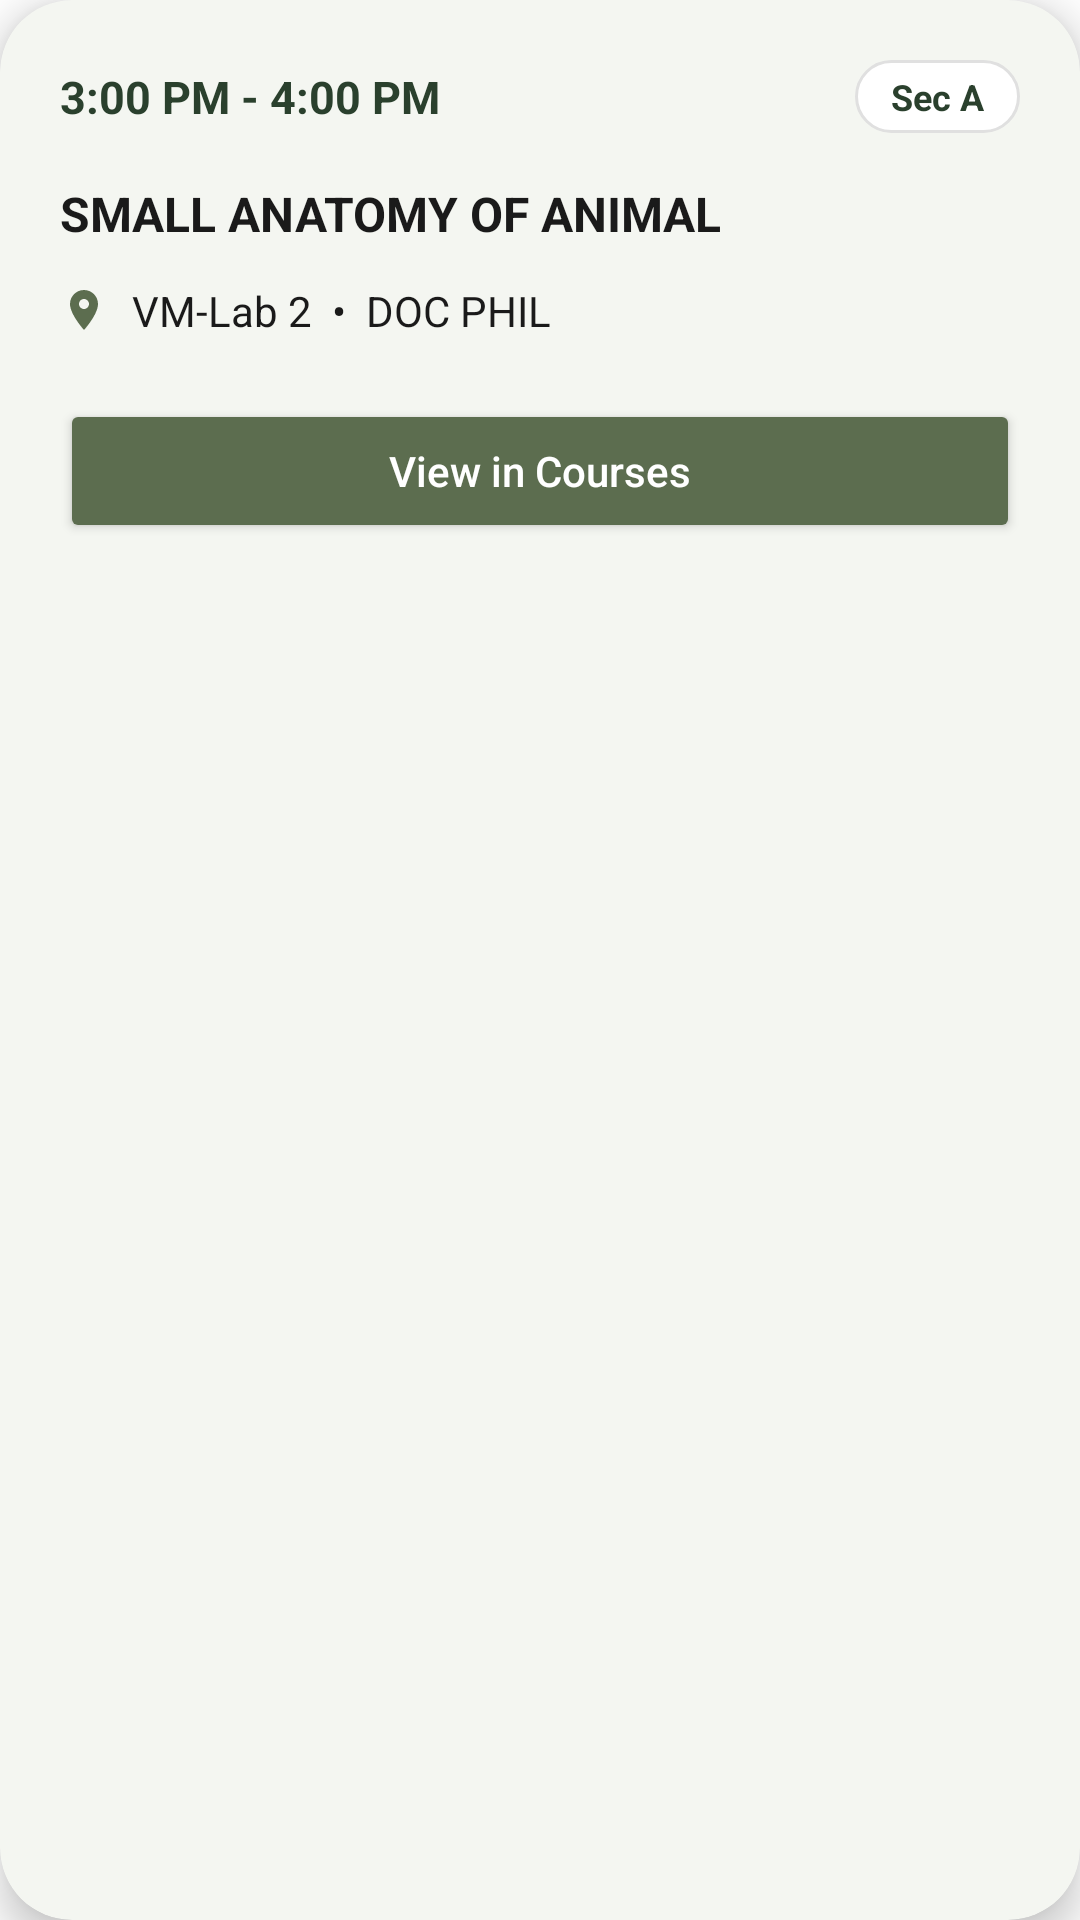

Point at icon controls on the screen. Image size 1080px x 1920px, points as (x,y).
location: (84,310)
